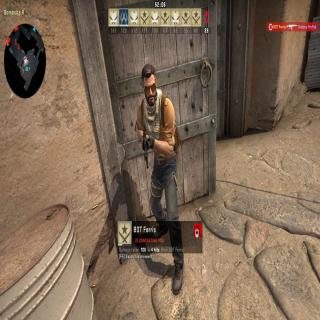T-Body: (137, 65, 188, 288)
T-Head: (141, 62, 159, 107)
